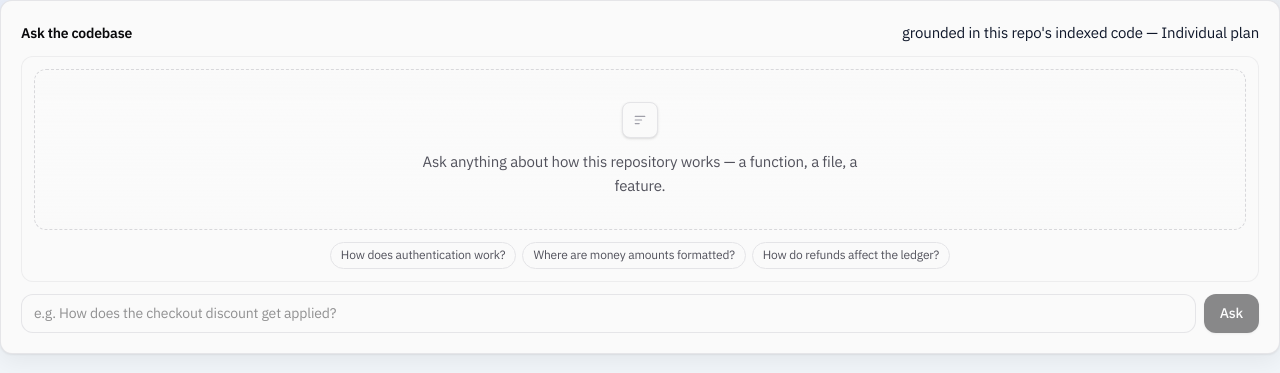
it: RepoChat › asks a question via a suggestion chip and shows both the user turn and the answer
Click the button "Where are money amounts formatted?".
click(634, 255)  # box [522,242,746,269]
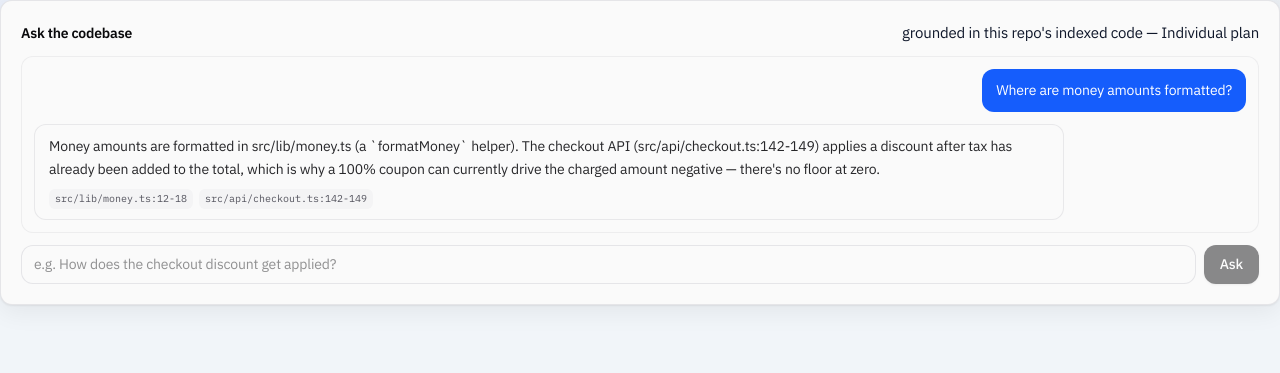
Expected: the text "Where are money amounts formatted?" is shown, [996,81,1232,99]
Result: the text "Money amounts are formatted in src/lib/money.ts" is shown at [49,137,1015,178]
